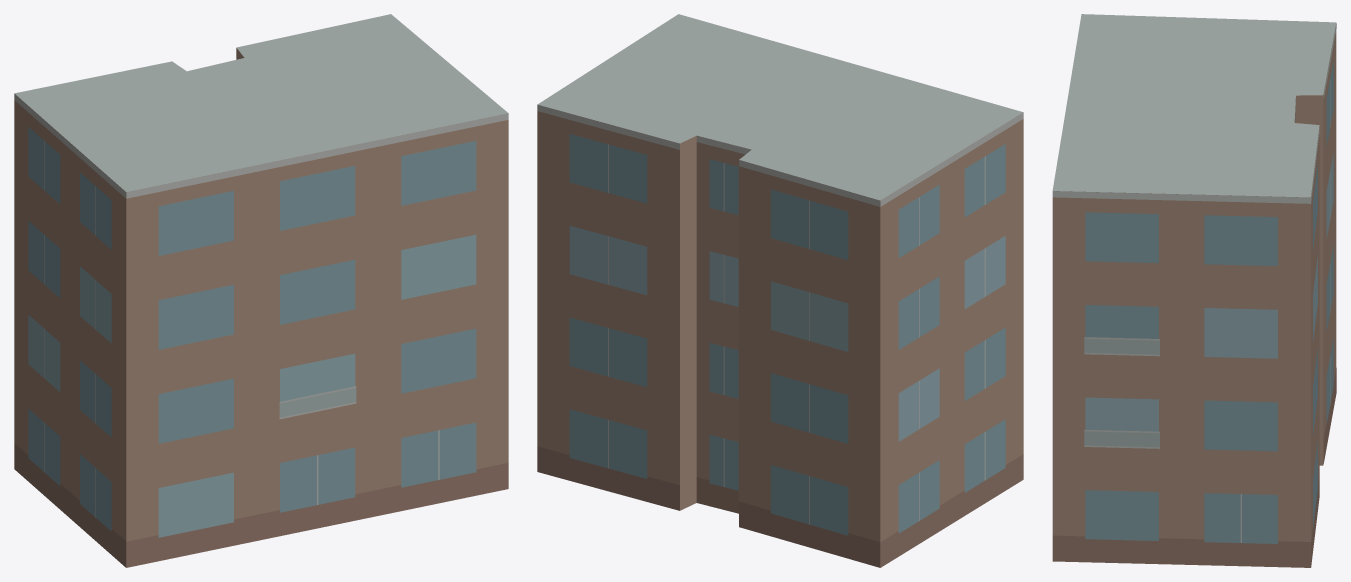
File: survey-upis-32947842.glb
3 views of the same model, side by side, from view 1: azimuth 30°, elevation 25°; view 2: azimuth 150°, elevation 25°; view 3: azimuth 270°, elevation 25° (orthographic). The views are drawn at different scales.
Visible parts, largest first — view 1: survey-upis-32947842.tmp; view 2: survey-upis-32947842.tmp; view 3: survey-upis-32947842.tmp.
Part boxes in pixels (x1=…): survey-upis-32947842.tmp: x1=14, y1=14, x2=508, y2=567; survey-upis-32947842.tmp: x1=537, y1=14, x2=1023, y2=567; survey-upis-32947842.tmp: x1=1052, y1=14, x2=1336, y2=567.
Bounding box in the file's own units: 14.88 × 14 × 9.74.
